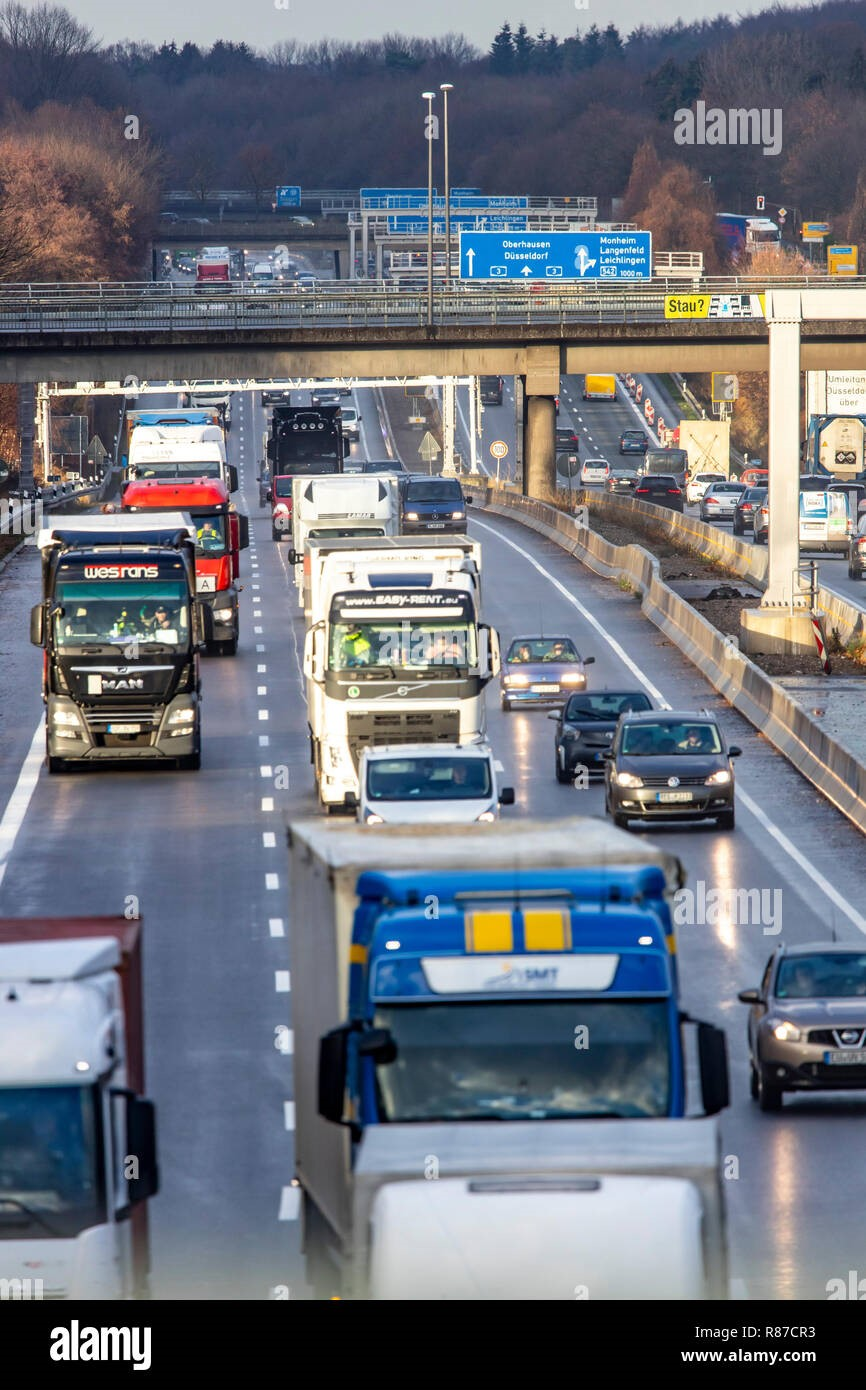HeavyVehicle: (36, 510, 213, 771)
LightVehicle: (603, 713, 741, 830), (505, 636, 588, 709), (398, 475, 470, 531), (633, 474, 685, 515), (580, 458, 612, 484), (619, 430, 649, 457)
